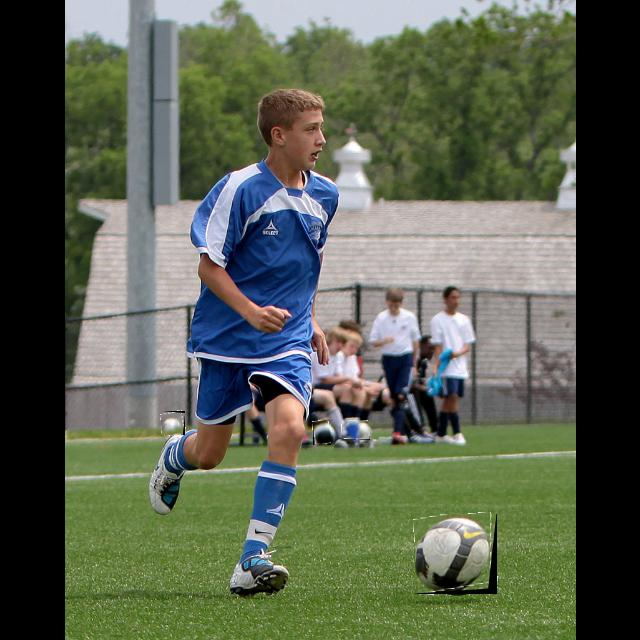Football: (415, 514, 497, 594), (161, 411, 185, 435), (342, 420, 370, 440), (313, 421, 331, 445)
